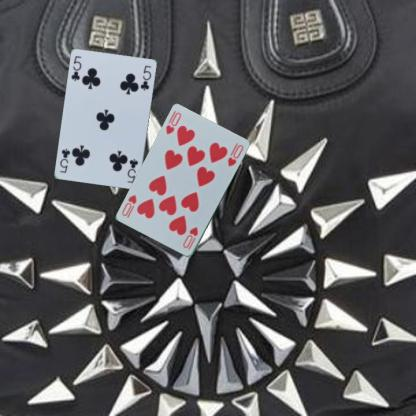10h: (163, 110, 183, 136), (180, 225, 199, 251)
5c: (125, 156, 139, 184), (68, 54, 82, 82)
